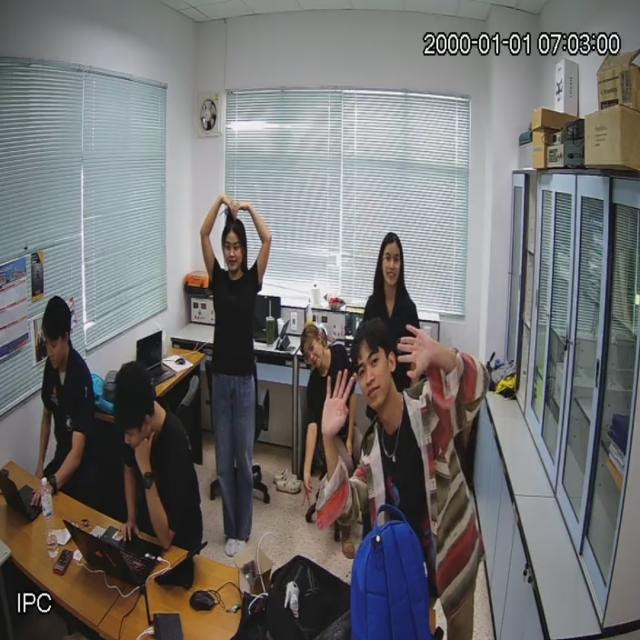normal: (333, 321, 479, 638), (203, 195, 270, 549), (111, 360, 202, 557), (27, 294, 95, 522)
